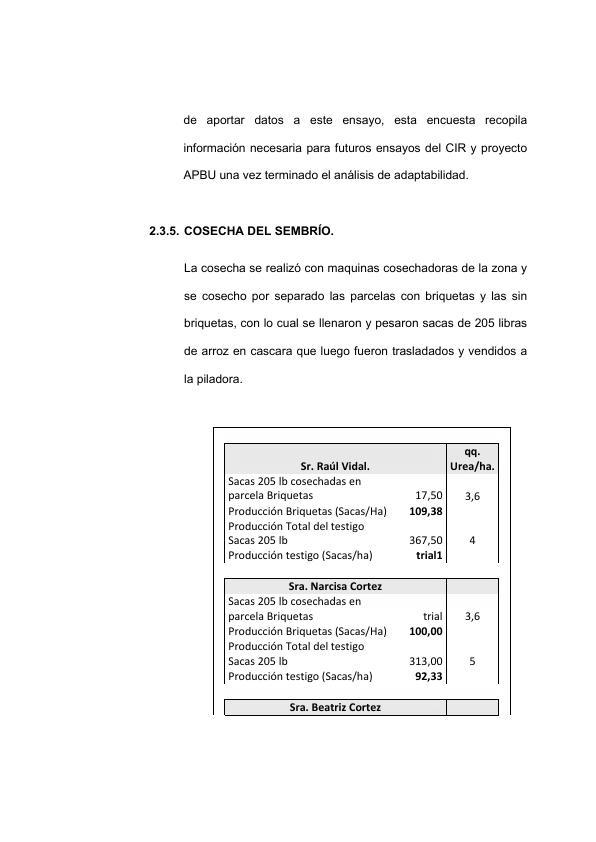table: (209, 423, 515, 721)
text: (144, 222, 537, 390), (176, 111, 530, 191)
